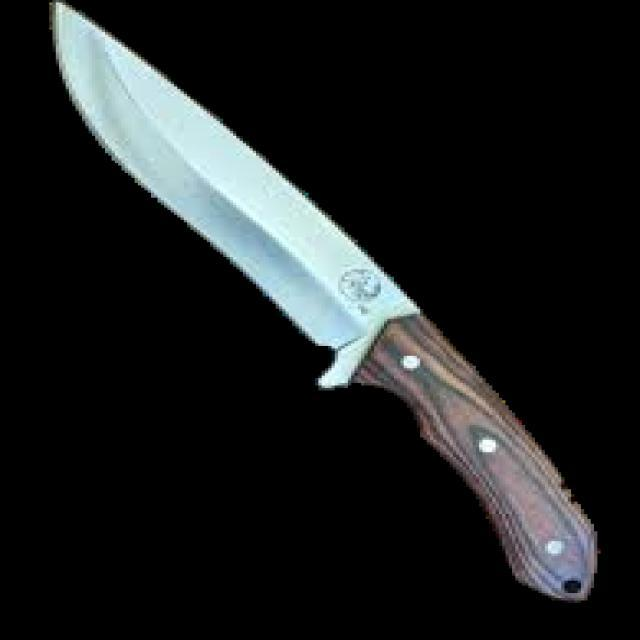knife: (47, 0, 591, 607)
